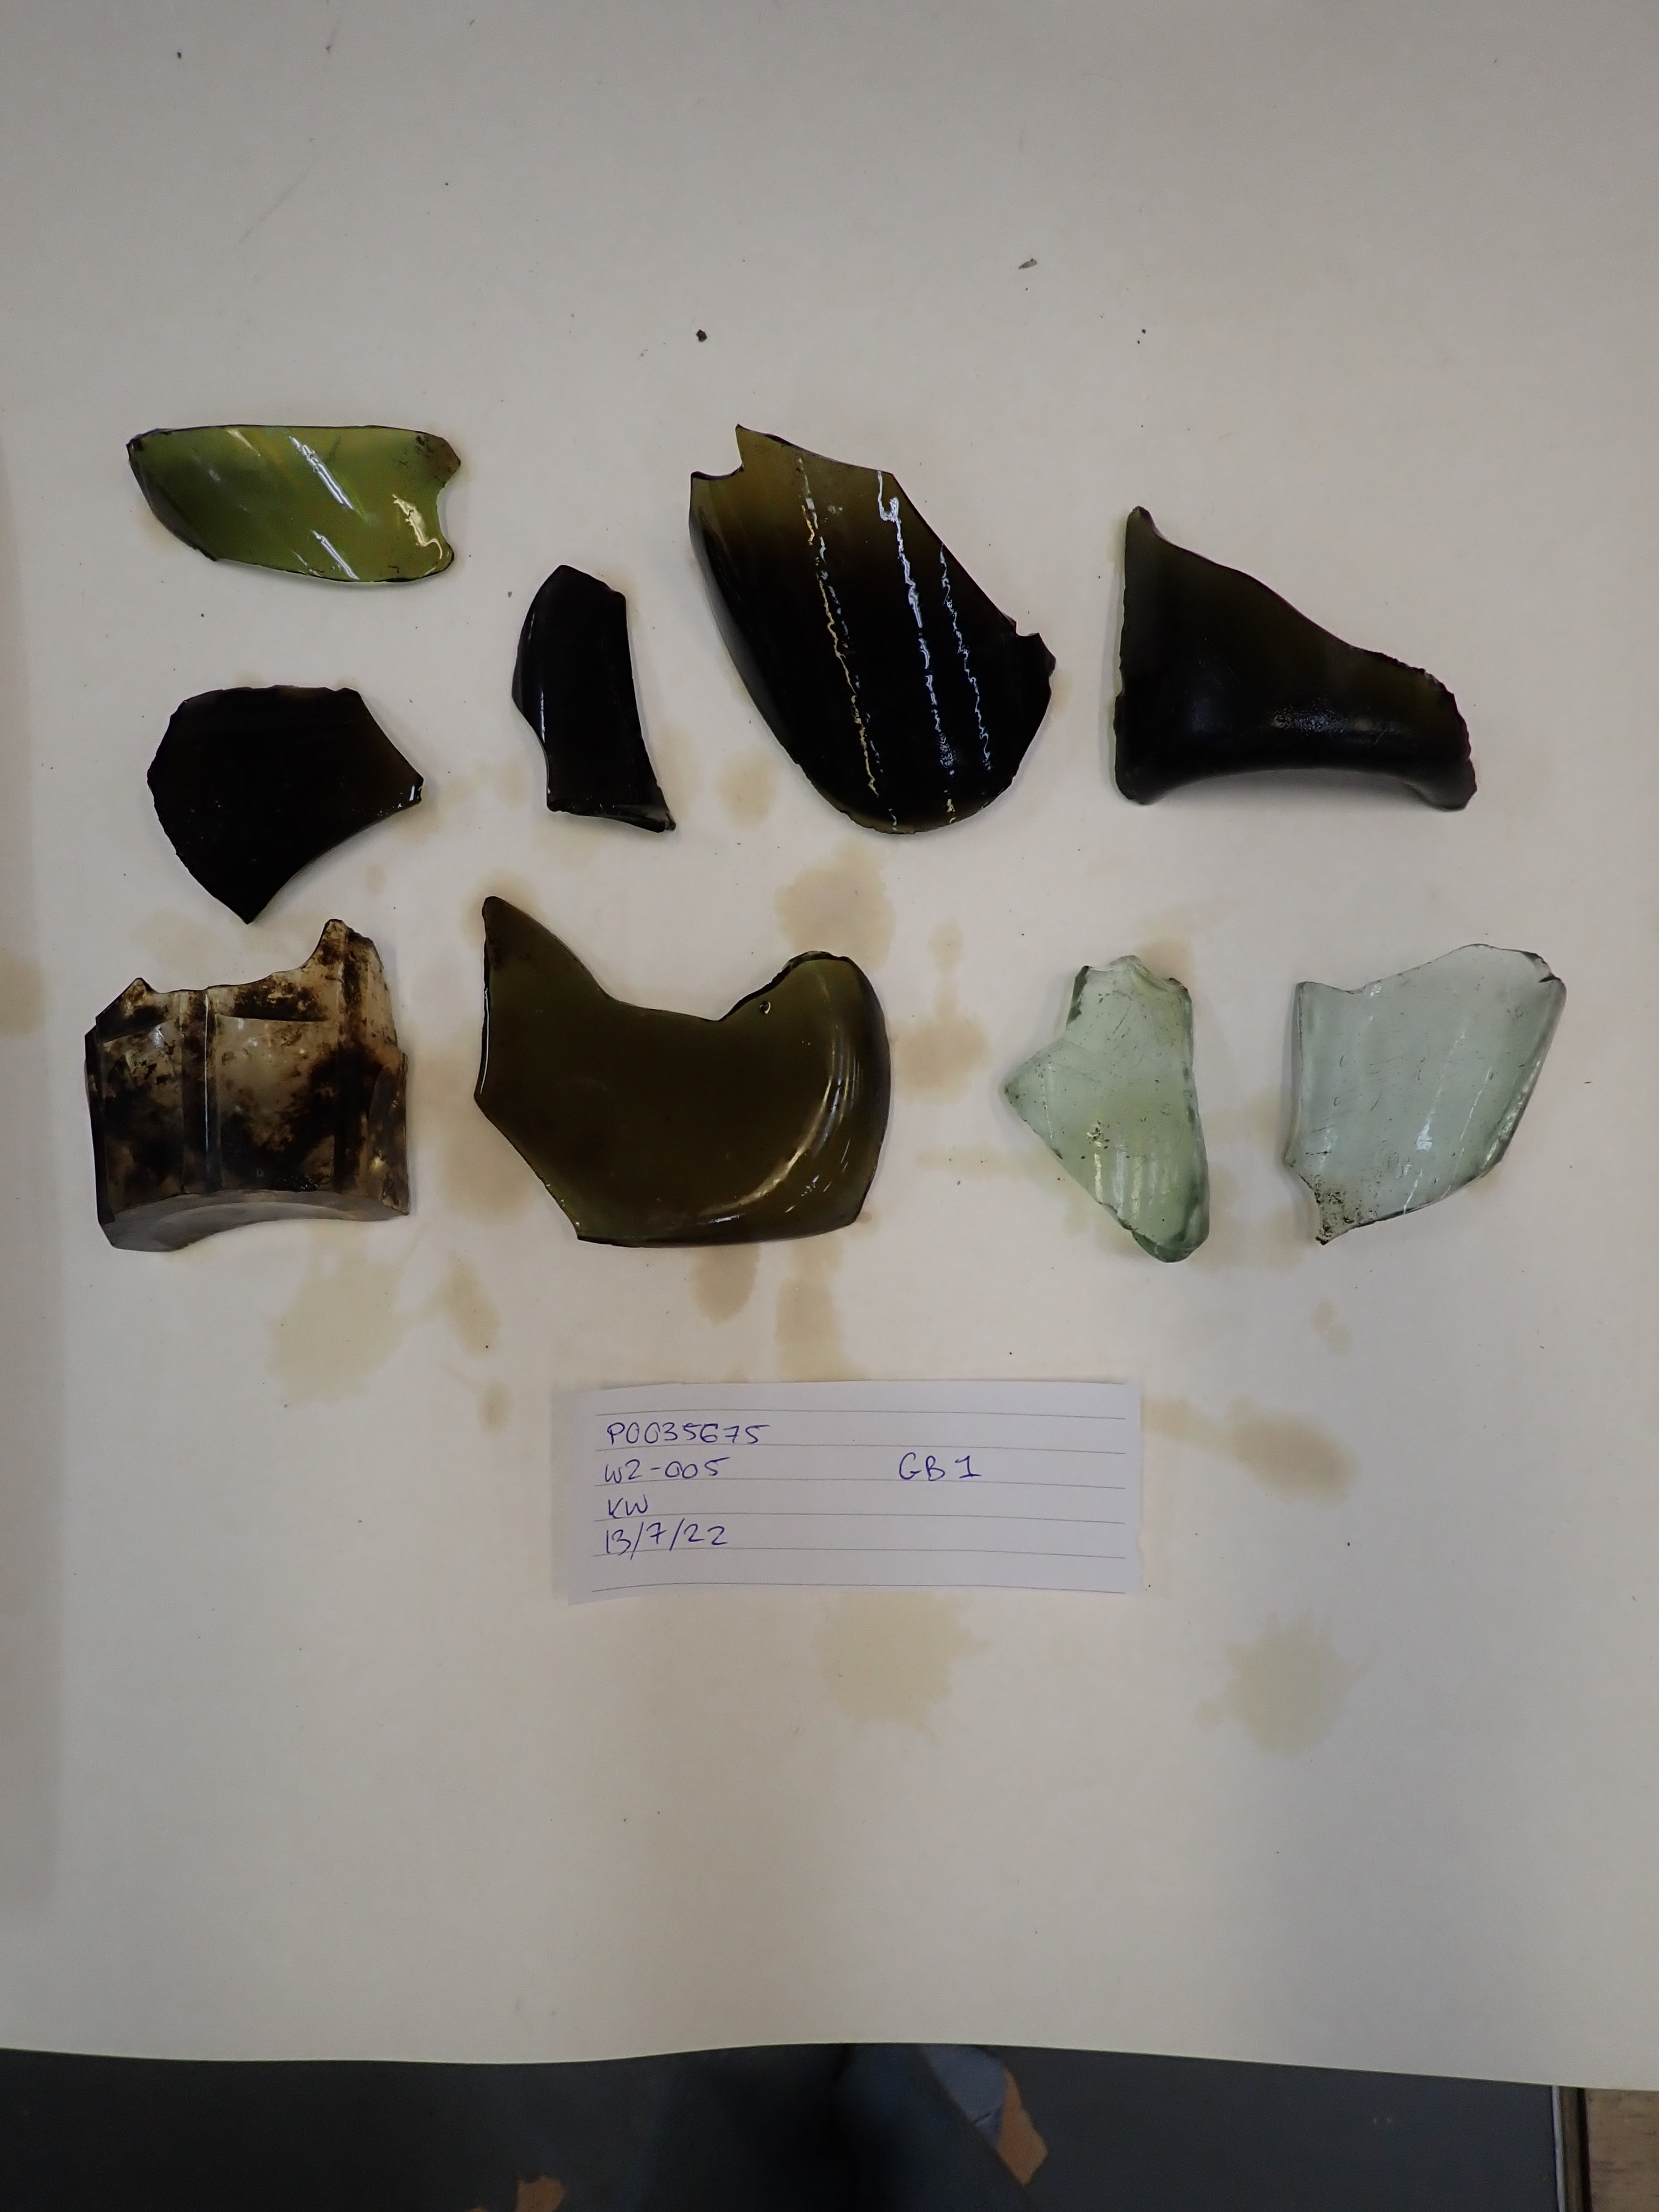Counted_Objects: (664, 413, 1066, 853), (455, 874, 910, 1263), (1082, 493, 1502, 850), (56, 909, 439, 1270), (1270, 932, 1596, 1270), (979, 935, 1236, 1280), (99, 385, 479, 611), (132, 665, 443, 921), (498, 540, 681, 855)
Not_Counted_Objects: (514, 1348, 1173, 1618)
